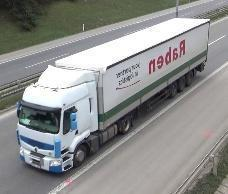truck: (14, 18, 210, 174)
